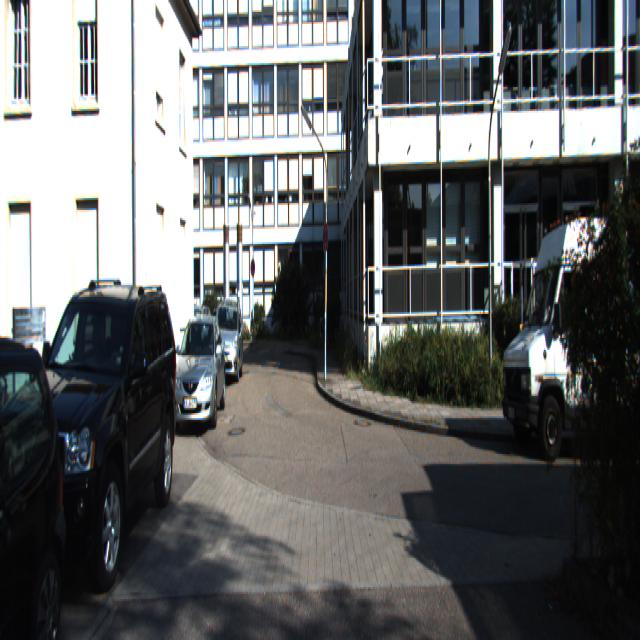Car: (0, 266, 182, 621), (499, 205, 639, 457), (0, 334, 73, 638), (167, 314, 228, 435), (209, 297, 246, 382)
